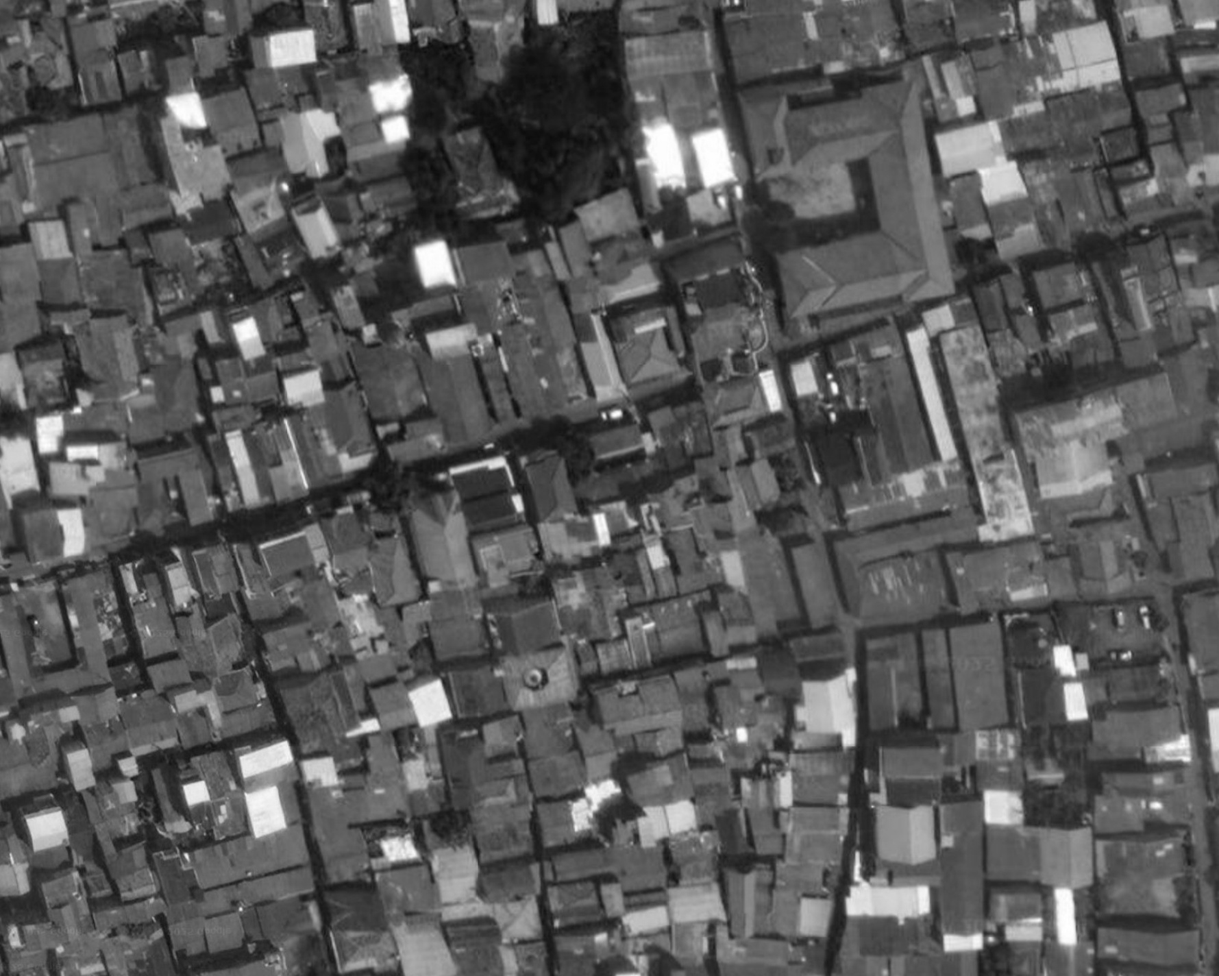building: (738, 70, 951, 326), (436, 210, 609, 434), (1012, 369, 1189, 505), (935, 323, 1035, 544), (227, 517, 360, 681), (285, 731, 422, 881), (832, 505, 997, 628), (965, 16, 1133, 131), (149, 849, 319, 957), (536, 188, 670, 323), (661, 235, 783, 378), (0, 567, 131, 698), (18, 101, 166, 211), (719, 0, 907, 84), (621, 0, 732, 137), (278, 343, 382, 483), (1102, 104, 1219, 227), (40, 428, 148, 558), (617, 581, 747, 687), (408, 311, 510, 446), (1015, 135, 1125, 255), (204, 398, 314, 515), (943, 152, 1049, 273), (1041, 484, 1146, 602), (996, 82, 1134, 171), (221, 275, 340, 378), (119, 430, 222, 538), (116, 554, 194, 696), (1085, 237, 1169, 368), (166, 660, 282, 753), (392, 467, 479, 590), (835, 455, 972, 533), (946, 530, 1079, 610), (853, 351, 934, 475), (430, 124, 519, 232), (66, 198, 144, 320), (347, 317, 433, 425), (137, 435, 227, 537), (271, 655, 366, 751), (437, 715, 530, 811), (80, 836, 170, 935), (1010, 619, 1089, 730), (114, 355, 210, 444), (588, 664, 688, 749), (188, 819, 313, 887), (902, 323, 960, 465), (320, 876, 400, 976), (149, 98, 230, 195), (225, 143, 305, 241), (269, 97, 355, 186), (1091, 764, 1195, 836), (329, 73, 411, 163), (610, 294, 690, 386), (66, 0, 136, 105), (1048, 82, 1142, 160), (8, 0, 85, 95), (947, 615, 1011, 728), (700, 457, 788, 539), (1025, 256, 1101, 349), (421, 807, 492, 905), (206, 330, 285, 416), (449, 452, 530, 535), (417, 575, 496, 659), (972, 268, 1044, 360), (897, 0, 1023, 52), (831, 912, 939, 972), (698, 363, 788, 435), (140, 215, 216, 299), (943, 798, 988, 939), (77, 307, 154, 389), (494, 644, 583, 714), (1085, 697, 1186, 758), (1095, 920, 1203, 976), (785, 744, 857, 828), (174, 598, 245, 682), (862, 630, 924, 726), (468, 793, 548, 866), (194, 80, 267, 160), (1121, 229, 1188, 316), (793, 660, 859, 748), (73, 688, 139, 776), (0, 236, 50, 352), (1093, 832, 1191, 891), (313, 498, 386, 577), (463, 7, 536, 86), (784, 535, 843, 632), (471, 526, 551, 596), (116, 677, 186, 756), (1159, 335, 1219, 427), (975, 728, 1032, 823), (488, 592, 567, 659), (776, 797, 848, 870), (1164, 488, 1219, 583), (443, 646, 512, 721), (285, 189, 353, 265), (800, 419, 866, 497), (175, 190, 254, 255), (387, 906, 460, 976), (20, 499, 95, 567), (771, 862, 839, 936), (615, 749, 696, 808), (660, 520, 721, 597), (932, 120, 1014, 177), (520, 446, 579, 525), (358, 534, 419, 609), (749, 636, 810, 711), (843, 878, 934, 928), (242, 775, 313, 839), (473, 849, 554, 905), (536, 509, 614, 567), (258, 524, 334, 583), (1093, 120, 1156, 191), (1137, 451, 1219, 505), (255, 607, 321, 673), (871, 802, 938, 867), (226, 729, 294, 791), (582, 412, 654, 470), (518, 696, 586, 757), (612, 841, 680, 902), (919, 619, 957, 728), (0, 730, 56, 801), (316, 175, 374, 243), (639, 116, 689, 193), (786, 625, 851, 684), (527, 746, 595, 802), (339, 113, 413, 164), (443, 916, 505, 976), (376, 595, 439, 654), (1040, 824, 1096, 890), (1130, 72, 1192, 129), (714, 930, 790, 976), (241, 30, 324, 72), (572, 715, 623, 783), (582, 564, 627, 641), (355, 171, 418, 226), (187, 540, 241, 603), (688, 754, 736, 824), (0, 436, 48, 505), (20, 794, 78, 851), (151, 550, 202, 614), (544, 841, 618, 885), (688, 124, 738, 189), (255, 226, 311, 284), (553, 922, 613, 976), (1181, 589, 1219, 674), (14, 332, 78, 382), (325, 886, 390, 935), (115, 179, 179, 228), (1118, 26, 1174, 82), (366, 674, 418, 734), (713, 584, 760, 650), (1108, 0, 1180, 43), (984, 880, 1046, 928), (988, 823, 1039, 881), (404, 672, 455, 730), (546, 876, 604, 926), (702, 677, 751, 736), (1147, 303, 1199, 358), (0, 818, 36, 897), (410, 235, 459, 293), (666, 880, 726, 927), (718, 866, 756, 939), (270, 59, 318, 115), (938, 54, 979, 119), (880, 739, 948, 778), (302, 0, 350, 55), (405, 0, 464, 44), (744, 411, 800, 457), (491, 896, 543, 945), (116, 43, 163, 95), (349, 146, 409, 186), (1031, 0, 1102, 33), (154, 310, 200, 360), (193, 951, 285, 976), (707, 420, 753, 468), (652, 193, 696, 243), (36, 865, 86, 909), (4, 923, 54, 967), (1097, 123, 1143, 169), (937, 932, 985, 976), (346, 0, 385, 54), (354, 645, 400, 688), (1006, 926, 1045, 975), (633, 156, 664, 217), (373, 0, 413, 47), (202, 0, 252, 37), (620, 902, 671, 938), (538, 801, 576, 849), (298, 751, 341, 793), (594, 636, 638, 675), (63, 743, 98, 791), (191, 34, 230, 77), (917, 53, 949, 105), (507, 937, 549, 976), (46, 901, 82, 946), (918, 299, 959, 338), (670, 923, 708, 965), (162, 52, 197, 95), (1178, 45, 1219, 80), (4, 945, 46, 976), (1177, 0, 1219, 28), (598, 878, 626, 920), (1130, 77, 1164, 104), (1177, 90, 1186, 102)
tree: (454, 0, 648, 165), (509, 118, 625, 227), (400, 94, 452, 240), (392, 35, 472, 103), (1011, 720, 1087, 781), (548, 417, 600, 488), (364, 459, 423, 518), (1053, 592, 1101, 656), (751, 200, 806, 254), (1026, 784, 1087, 825), (754, 498, 803, 546), (300, 253, 345, 298), (434, 808, 476, 851), (256, 0, 307, 35), (771, 451, 807, 494), (197, 64, 241, 96), (410, 639, 444, 674), (366, 816, 408, 840), (391, 720, 420, 752), (983, 947, 1013, 974), (938, 770, 966, 797), (309, 932, 333, 962), (132, 787, 158, 812), (412, 832, 431, 858), (1152, 612, 1170, 633), (1132, 549, 1149, 568), (130, 924, 145, 940)
